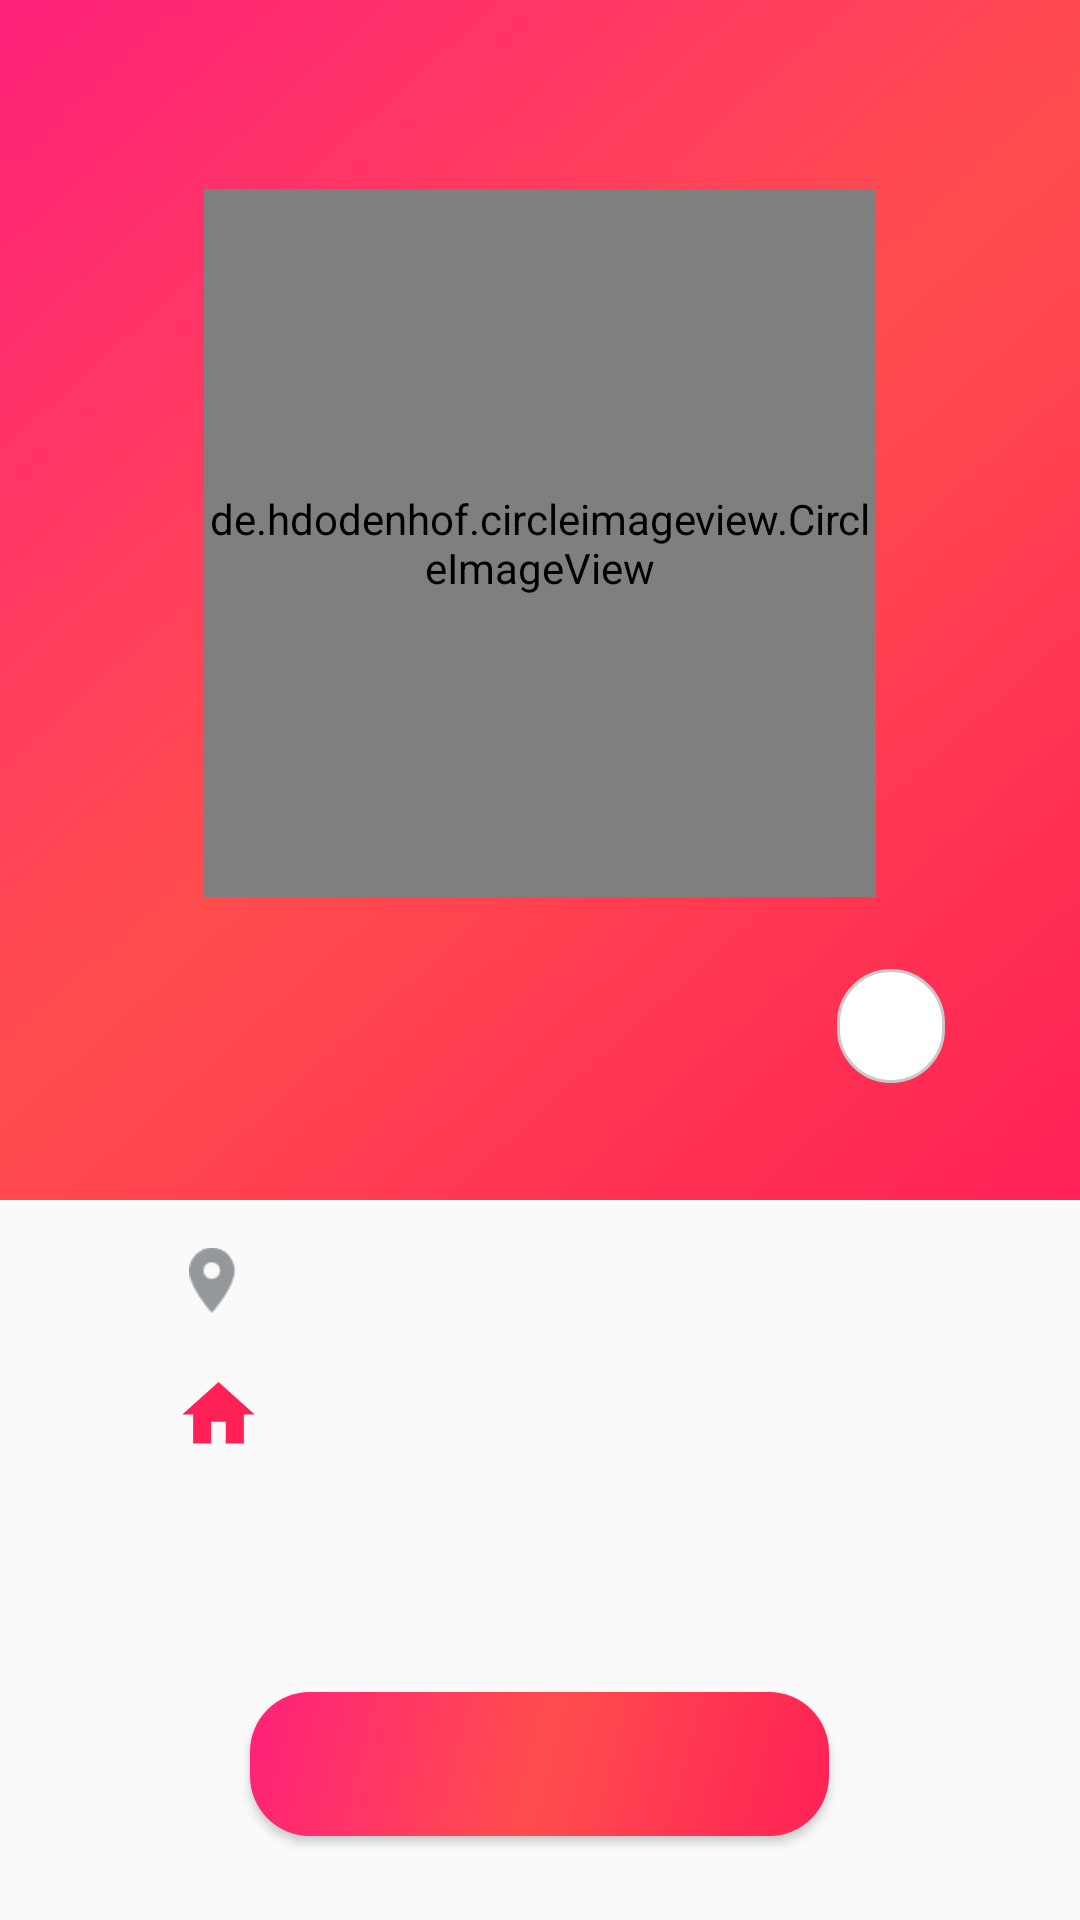

Icon bounding boxes for this 1080×1920 phone screenshot, format bbox(x1, y1, x2, y2):
home: bbox(182, 1382, 255, 1444)
